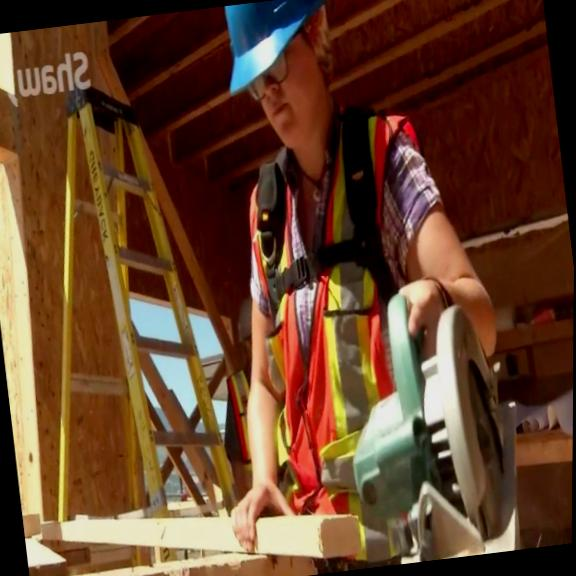safety_vest: (234, 106, 474, 575), (224, 366, 258, 466)
